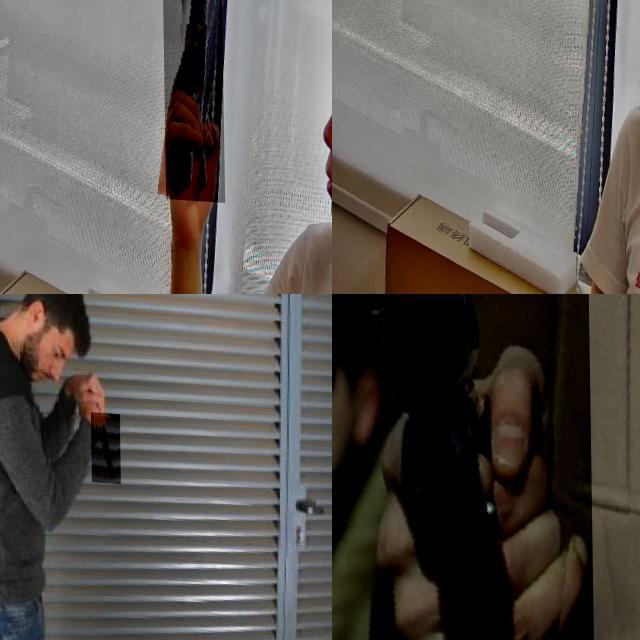-: (90, 408, 120, 480)
gun-knife-thesis - v11 Yolov5 augmented: (332, 294, 593, 640), (161, 0, 224, 198)
